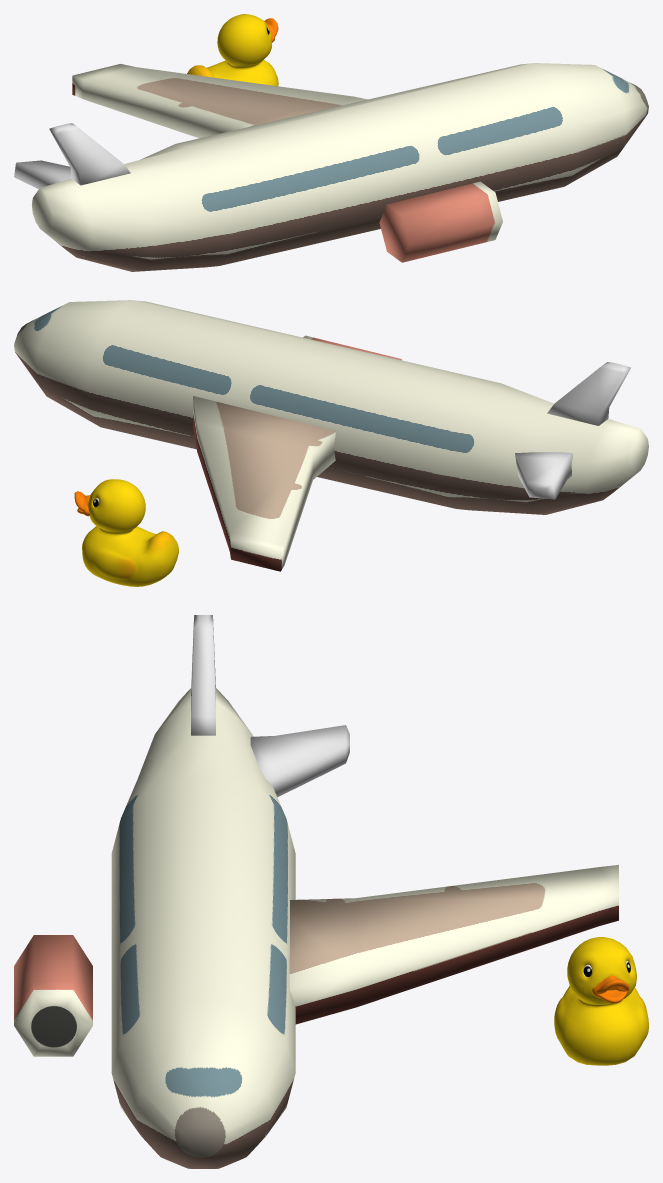
The picture shows the model from 3 angles, top to bottom: view 1: azimuth 30°, elevation 25°; view 2: azimuth 150°, elevation 25°; view 3: azimuth 270°, elevation 25°; orthographic projection. The views are drawn at different scales.
Visible parts, largest first — view 1: PlaneBody, MainWings, Engine, LOD3spShape, TopWing, RearWings; view 2: PlaneBody, MainWings, LOD3spShape, TopWing, RearWings; view 3: PlaneBody, MainWings, LOD3spShape, Engine, RearWings, TopWing.
Part boxes in pixels (left/top/right/bottom): PlaneBody: left=32, top=63, right=648, bottom=271; MainWings: left=72, top=64, right=367, bottom=138; Engine: left=379, top=181, right=502, bottom=262; LOD3spShape: left=187, top=14, right=278, bottom=86; TopWing: left=49, top=123, right=130, bottom=185; RearWings: left=14, top=160, right=71, bottom=189; PlaneBody: left=14, top=300, right=648, bottom=514; MainWings: left=193, top=396, right=335, bottom=571; LOD3spShape: left=74, top=479, right=178, bottom=586; TopWing: left=547, top=362, right=630, bottom=425; RearWings: left=515, top=452, right=572, bottom=499; PlaneBody: left=111, top=688, right=295, bottom=1168; MainWings: left=289, top=864, right=618, bottom=1024; LOD3spShape: left=554, top=937, right=648, bottom=1065; Engine: left=14, top=935, right=92, bottom=1056; RearWings: left=250, top=725, right=349, bottom=797; TopWing: left=191, top=615, right=215, bottom=735.
Size of the model in its own units: 10.97 by 3.04 by 7.73.
Materials: 4 (4 with a texture image).
